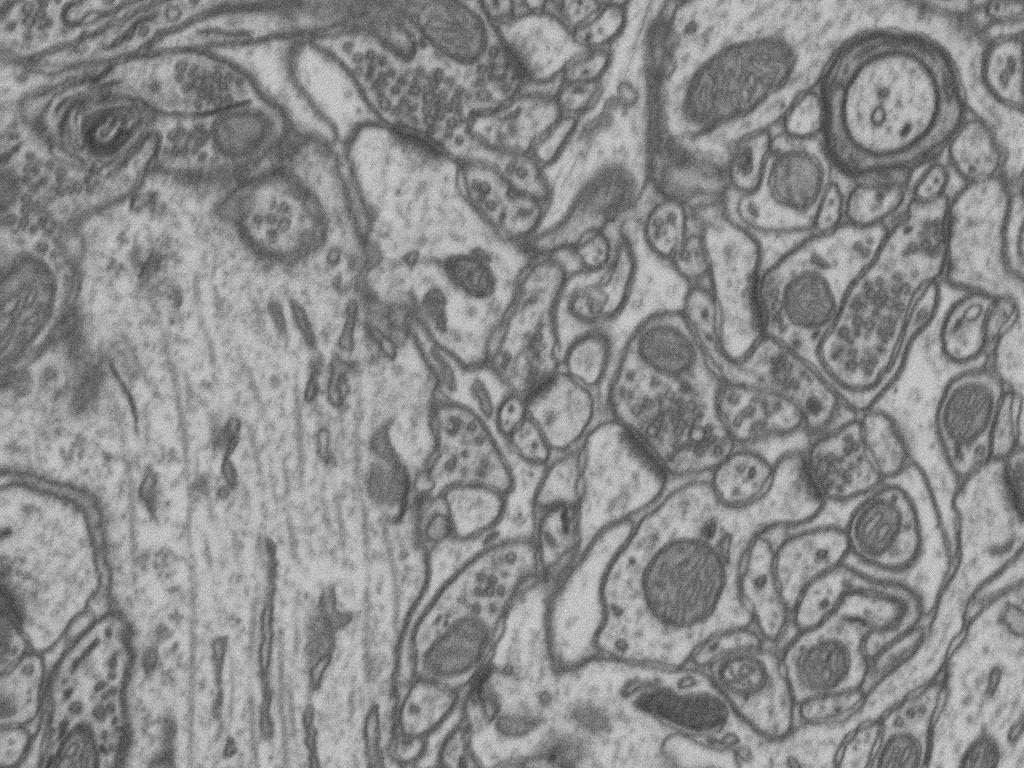mitochondria: (0, 148, 72, 387), (654, 46, 789, 162), (635, 536, 739, 642), (285, 0, 486, 53), (201, 92, 314, 180), (758, 136, 838, 225), (199, 182, 297, 250), (55, 677, 126, 768), (406, 629, 487, 703), (651, 329, 729, 399), (939, 386, 1002, 462), (777, 275, 846, 343), (14, 75, 106, 125), (789, 642, 853, 713), (415, 243, 488, 300), (852, 498, 911, 556), (876, 725, 938, 768)
